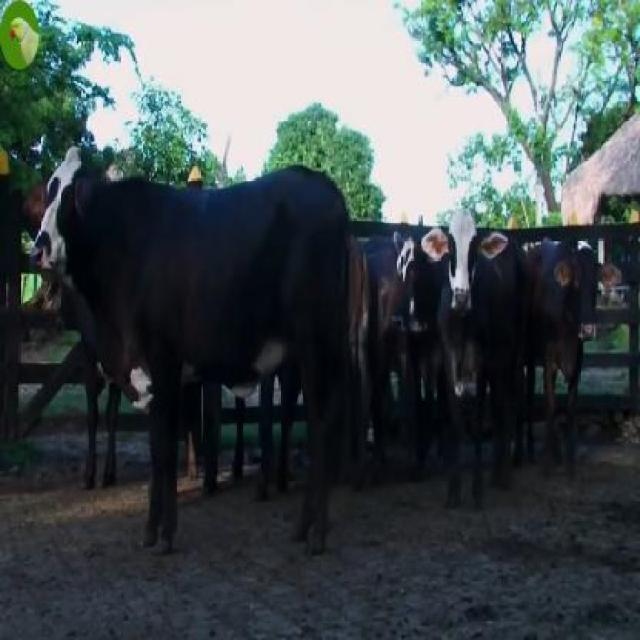Cow: (37, 145, 346, 560)
